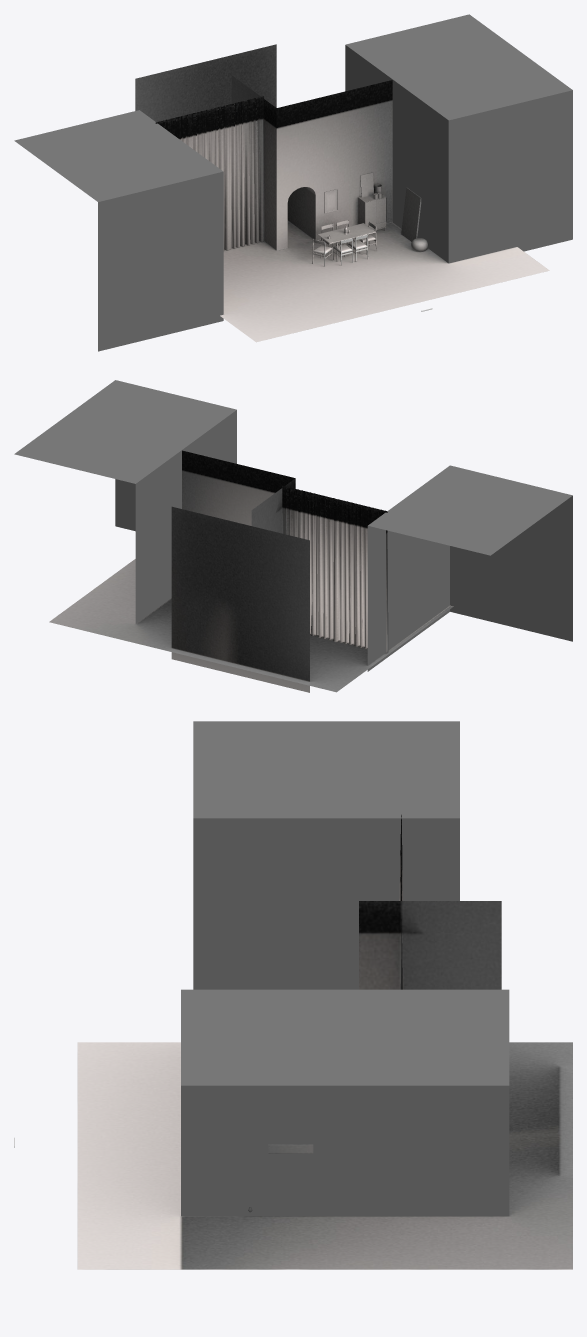
Rendered from room1.obj.
3 views of the same model, one above another, from view 1: azimuth 30°, elevation 25°; view 2: azimuth 150°, elevation 25°; view 3: azimuth 270°, elevation 25° (orthographic). The views are drawn at different scales.
Visible parts, largest first — view 1: polySurface112; view 2: polySurface112; view 3: polySurface112.
Part boxes in pixels (x1,y1,x2,y2): polySurface112: (14, 14, 572, 351); polySurface112: (14, 380, 572, 692); polySurface112: (14, 721, 572, 1269).
Bounding box in the file's own units: 13.57 × 4.3 × 8.8.
2 materials, 1 textured.
